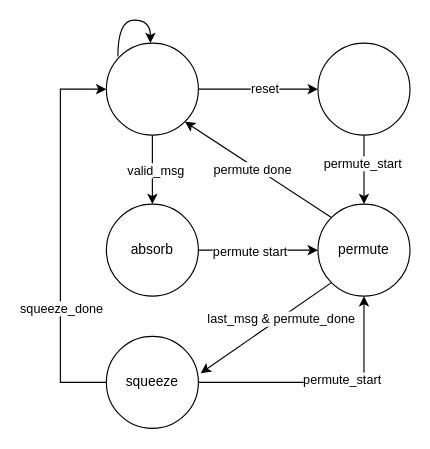
Image size: 430x449. Some labels were removed from this diagram. Here are the shapes that lost their labels. From the top down, the centre of each, then its label:
At [151,88]: "idle".
At [363,88]: "initialize".
